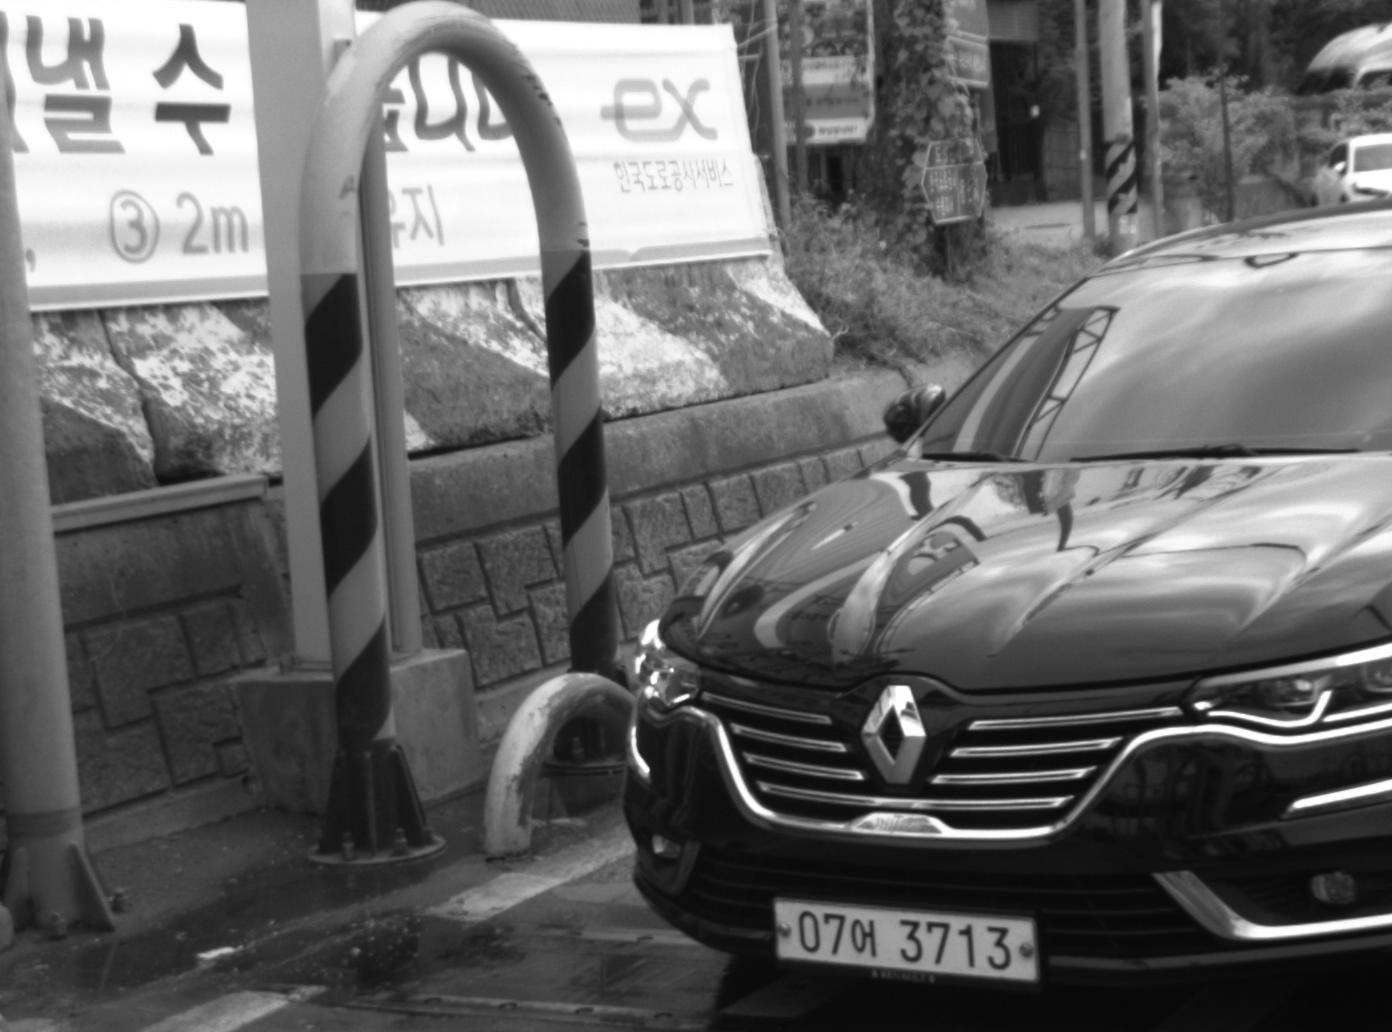car: (619, 206, 1392, 990)
plate: (768, 895, 1044, 987)
